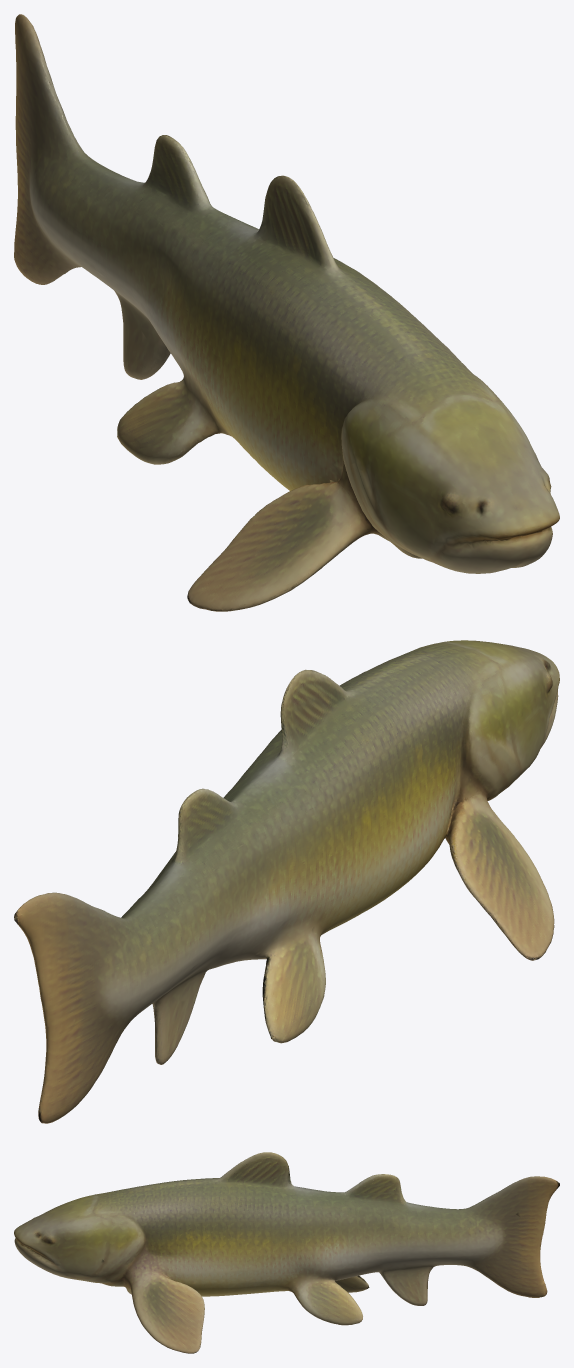
3 views of the same model, one above another, from view 1: azimuth 30°, elevation 25°; view 2: azimuth 150°, elevation 25°; view 3: azimuth 270°, elevation 25° (orthographic). The views are drawn at different scales.
Visible parts, largest first — view 1: world; view 2: world; view 3: world.
Boxes of the visible parts, x1,y1,x2,y2 form: world: [14, 14, 559, 611]; world: [14, 640, 559, 1123]; world: [14, 1152, 559, 1353].
Bounding box in the file's own units: 0.0792 × 0.0725 × 0.22.
1 material, 1 textured.
